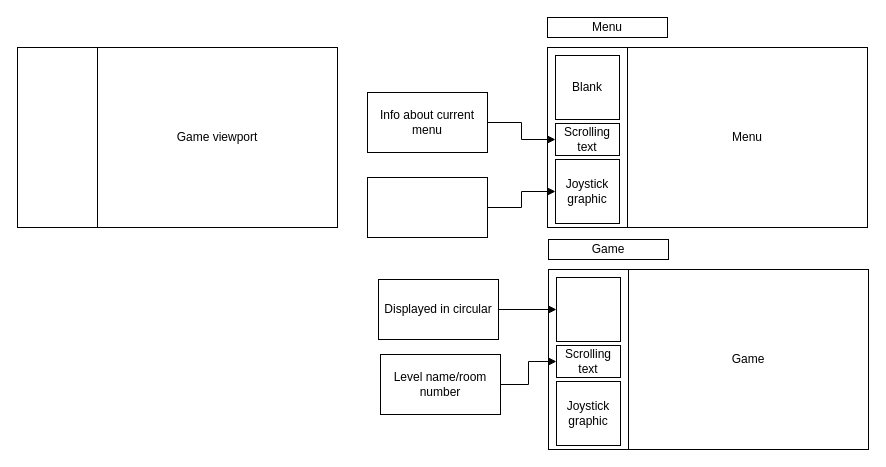
Image size: 886x467. Some labels were removed from this diagram. The centre of each missing label's shape, as x and y in pixels:
"Health" belongs at [588,309].
"Mimics player input" belongs at [427,207].
"Misc Info" belongs at [57,137].
